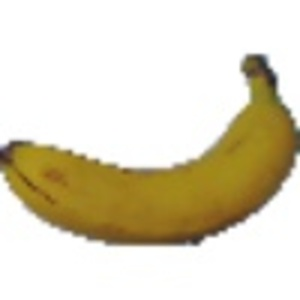banana: (4, 51, 299, 246)
